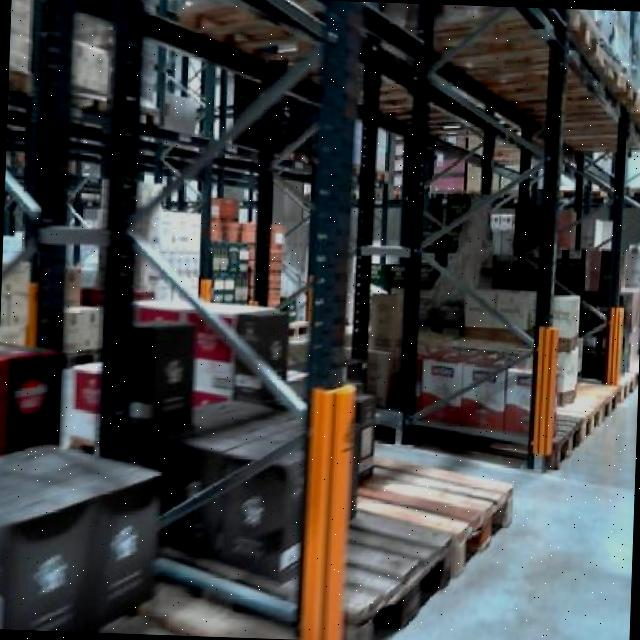pallet: (344, 452, 524, 576), (315, 500, 454, 640), (544, 372, 626, 444), (536, 412, 589, 469)
